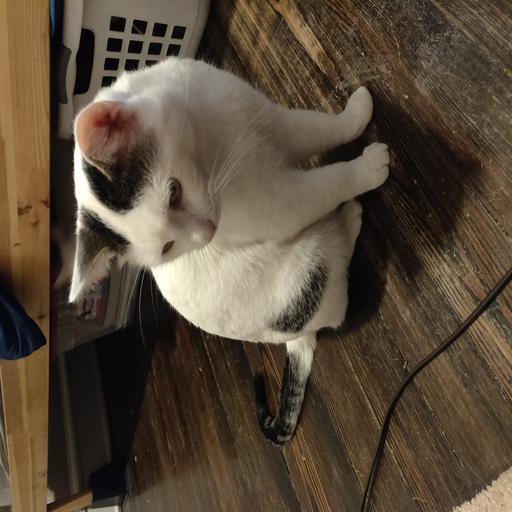cat: (71, 37, 383, 349)
